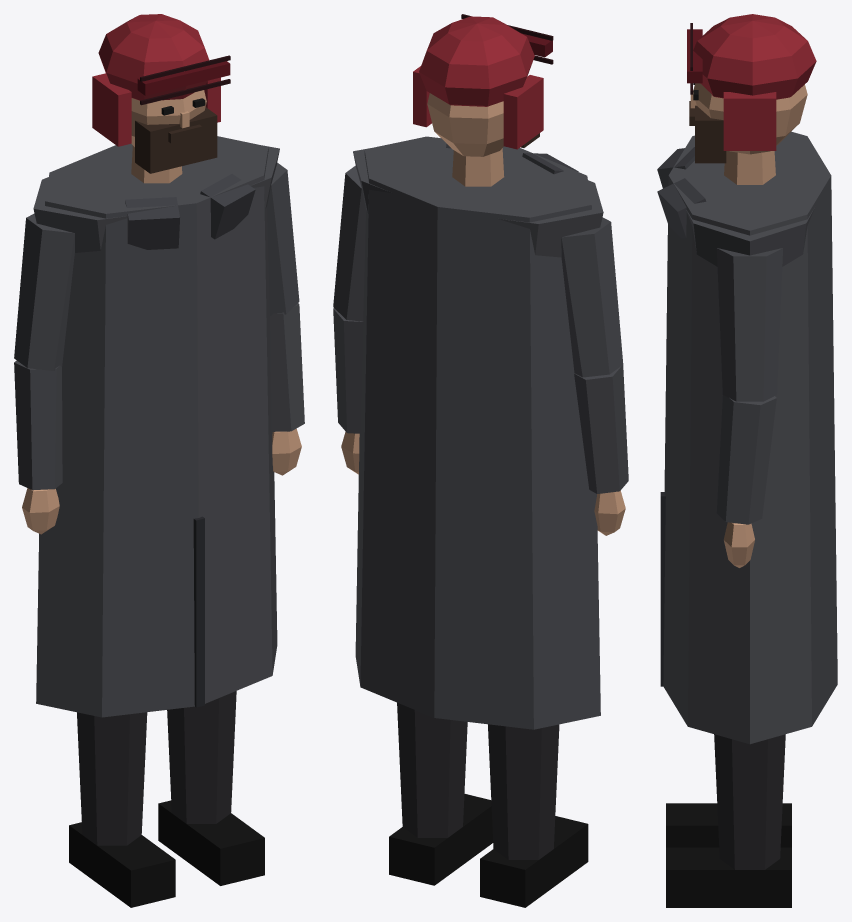
Rendered from 07-homeless-guy.glb.
3 renders of one model, left to right at view 1: azimuth 30°, elevation 25°; view 2: azimuth 150°, elevation 25°; view 3: azimuth 270°, elevation 25°, orthographic.
Parts seen in each view (by area): view 1: 07-homeless-guy-coat, 07-homeless-guy-shin, 07-homeless-guy-shin.001, 07-homeless-guy-upperarm, 07-homeless-guy-hat, 07-homeless-guy-forearm, 07-homeless-guy-foot, 07-homeless-guy-foot.001, 07-homeless-guy-forearm.001, 07-homeless-guy-upperarm.001, 07-homeless-guy-beard, 07-homeless-guy-torso (+9 smaller); view 2: 07-homeless-guy-coat, 07-homeless-guy-shin, 07-homeless-guy-hat, 07-homeless-guy-shin.001, 07-homeless-guy-upperarm, 07-homeless-guy-forearm, 07-homeless-guy-foot, 07-homeless-guy-foot.001, 07-homeless-guy-upperarm.001, 07-homeless-guy-head, 07-homeless-guy-forearm.001, 07-homeless-guy-torso (+5 smaller); view 3: 07-homeless-guy-coat, 07-homeless-guy-upperarm.001, 07-homeless-guy-shin.001, 07-homeless-guy-hat, 07-homeless-guy-foot.001, 07-homeless-guy-forearm.001, 07-homeless-guy-torso, 07-homeless-guy-earflap.001, 07-homeless-guy-foot, 07-homeless-guy-head, 07-homeless-guy-neck, 07-homeless-guy-beard (+5 smaller).
Part boxes in pixels (left/top/right/bottom): 07-homeless-guy-coat: left=36, top=136, right=277, bottom=717; 07-homeless-guy-shin: left=77, top=712, right=147, bottom=845; 07-homeless-guy-shin.001: left=167, top=691, right=236, bottom=823; 07-homeless-guy-upperarm: left=14, top=213, right=74, bottom=370; 07-homeless-guy-hat: left=98, top=14, right=209, bottom=100; 07-homeless-guy-forearm: left=14, top=360, right=62, bottom=490; 07-homeless-guy-foot: left=69, top=822, right=175, bottom=907; 07-homeless-guy-foot.001: left=158, top=800, right=264, bottom=885; 07-homeless-guy-forearm.001: left=270, top=303, right=304, bottom=431; 07-homeless-guy-upperarm.001: left=267, top=163, right=299, bottom=315; 07-homeless-guy-beard: left=135, top=107, right=217, bottom=173; 07-homeless-guy-torso: left=33, top=145, right=279, bottom=252; 07-homeless-guy-coat: left=355, top=136, right=600, bottom=729; 07-homeless-guy-shin: left=488, top=724, right=559, bottom=859; 07-homeless-guy-hat: left=419, top=16, right=534, bottom=106; 07-homeless-guy-shin.001: left=397, top=702, right=467, bottom=837; 07-homeless-guy-upperarm: left=561, top=217, right=623, bottom=377; 07-homeless-guy-forearm: left=574, top=365, right=628, bottom=493; 07-homeless-guy-foot: left=480, top=816, right=588, bottom=907; 07-homeless-guy-foot.001: left=389, top=793, right=493, bottom=885; 07-homeless-guy-upperarm.001: left=333, top=166, right=365, bottom=321; 07-homeless-guy-head: left=427, top=93, right=503, bottom=156; 07-homeless-guy-forearm.001: left=333, top=308, right=363, bottom=433; 07-homeless-guy-torso: left=353, top=148, right=603, bottom=257; 07-homeless-guy-coat: left=663, top=131, right=837, bottom=744; 07-homeless-guy-upperarm.001: left=716, top=248, right=782, bottom=401; 07-homeless-guy-shin.001: left=714, top=734, right=785, bottom=869; 07-homeless-guy-hat: left=693, top=14, right=816, bottom=99; 07-homeless-guy-foot.001: left=666, top=847, right=791, bottom=907; 07-homeless-guy-forearm.001: left=716, top=395, right=776, bottom=524; 07-homeless-guy-torso: left=686, top=206, right=815, bottom=266; 07-homeless-guy-earflap.001: left=723, top=92, right=776, bottom=150; 07-homeless-guy-foot: left=666, top=803, right=791, bottom=847; 07-homeless-guy-head: left=693, top=83, right=807, bottom=154; 07-homeless-guy-neck: left=724, top=151, right=775, bottom=184; 07-homeless-guy-beard: left=695, top=105, right=726, bottom=163.
Size of the model in its own units: 0.6204 by 1.8 by 0.3442.
